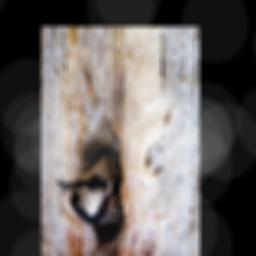Woodpecker: (56, 151, 122, 231)
